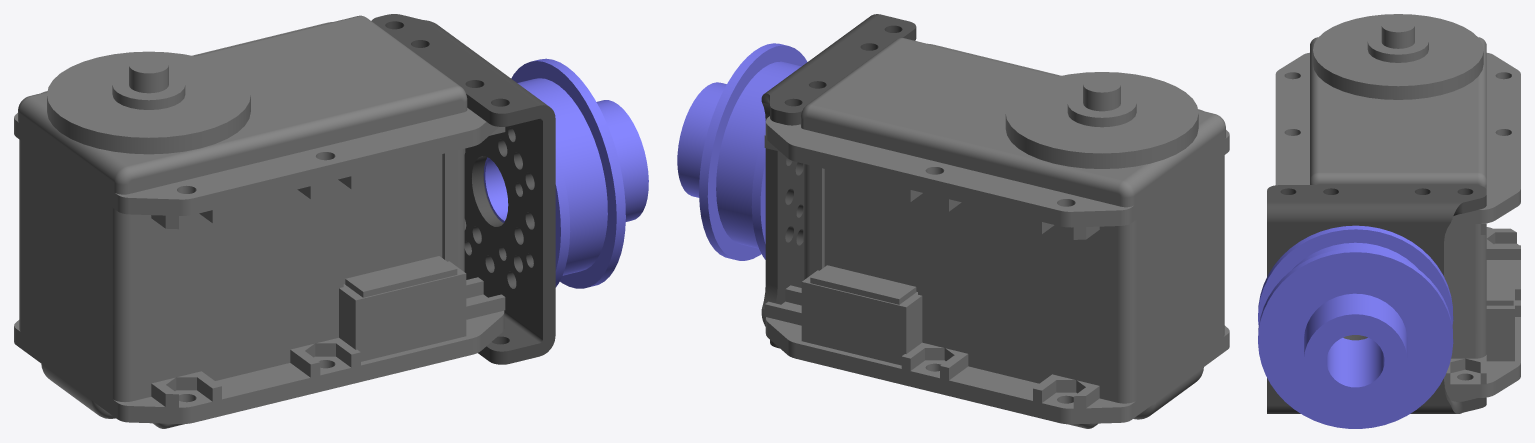
The model's file is tilt.dae.
The picture shows the model from 3 angles, left to right: view 1: azimuth 30°, elevation 25°; view 2: azimuth 150°, elevation 25°; view 3: azimuth 270°, elevation 25°; orthographic projection. The views are drawn at different scales.
Parts seen in each view (by area): view 1: Actor1, Actor2, Actor0; view 2: Actor1, Actor0, Actor2; view 3: Actor1, Actor0, Actor2.
Boxes of the visible parts, x1,y1,x2,y2 form: Actor1: (14, 15, 505, 428); Actor2: (371, 14, 555, 364); Actor0: (483, 58, 648, 288); Actor1: (764, 38, 1229, 428); Actor0: (677, 43, 807, 260); Actor2: (761, 14, 916, 348); Actor1: (1275, 14, 1520, 397); Actor0: (1258, 225, 1453, 428); Actor2: (1267, 185, 1486, 413).
Bounding box in the file's own units: 0.0843 × 0.05 × 0.0431.
